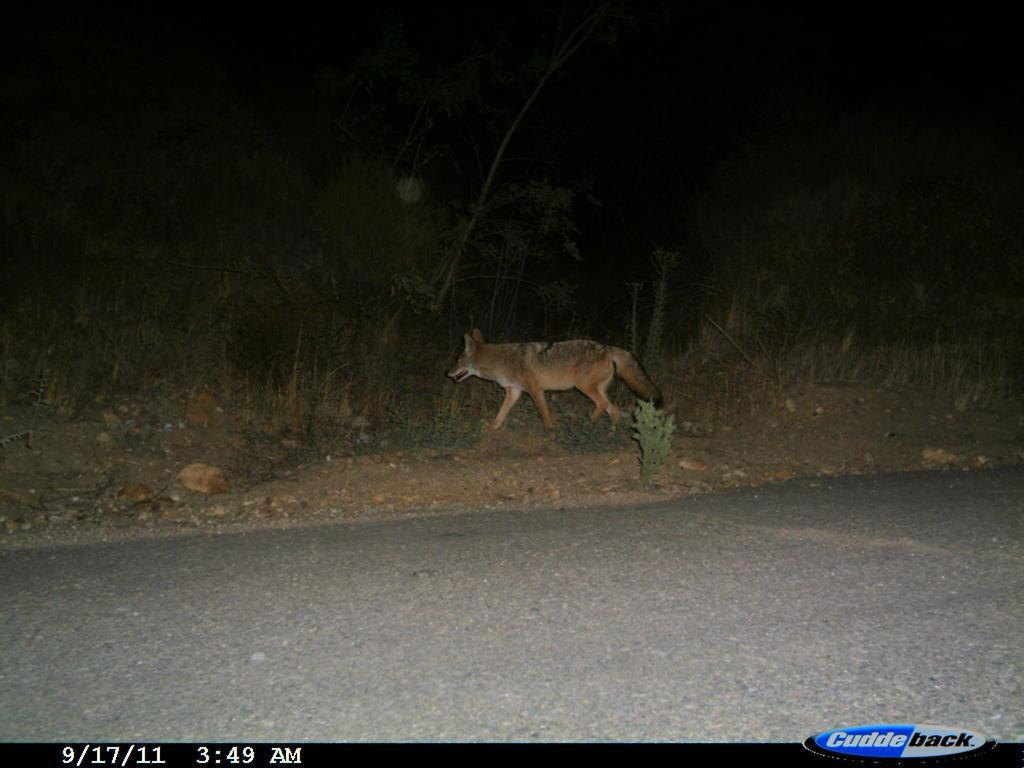coyote: (446, 321, 669, 449)
